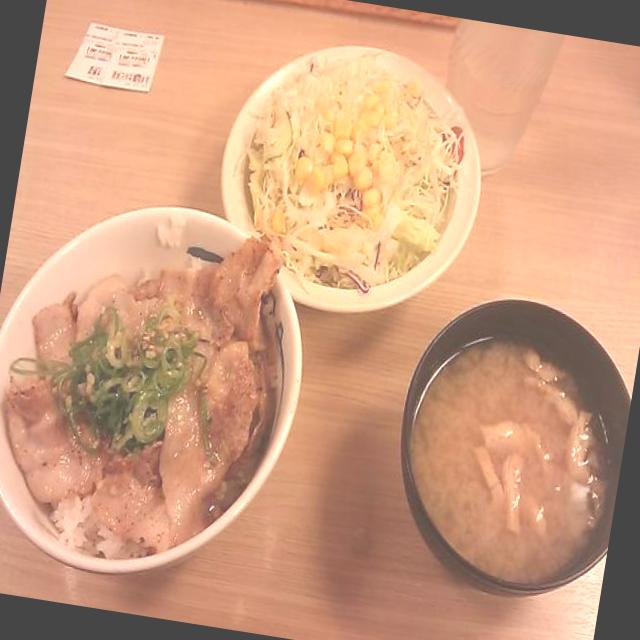Green Salad: (240, 64, 468, 292)
